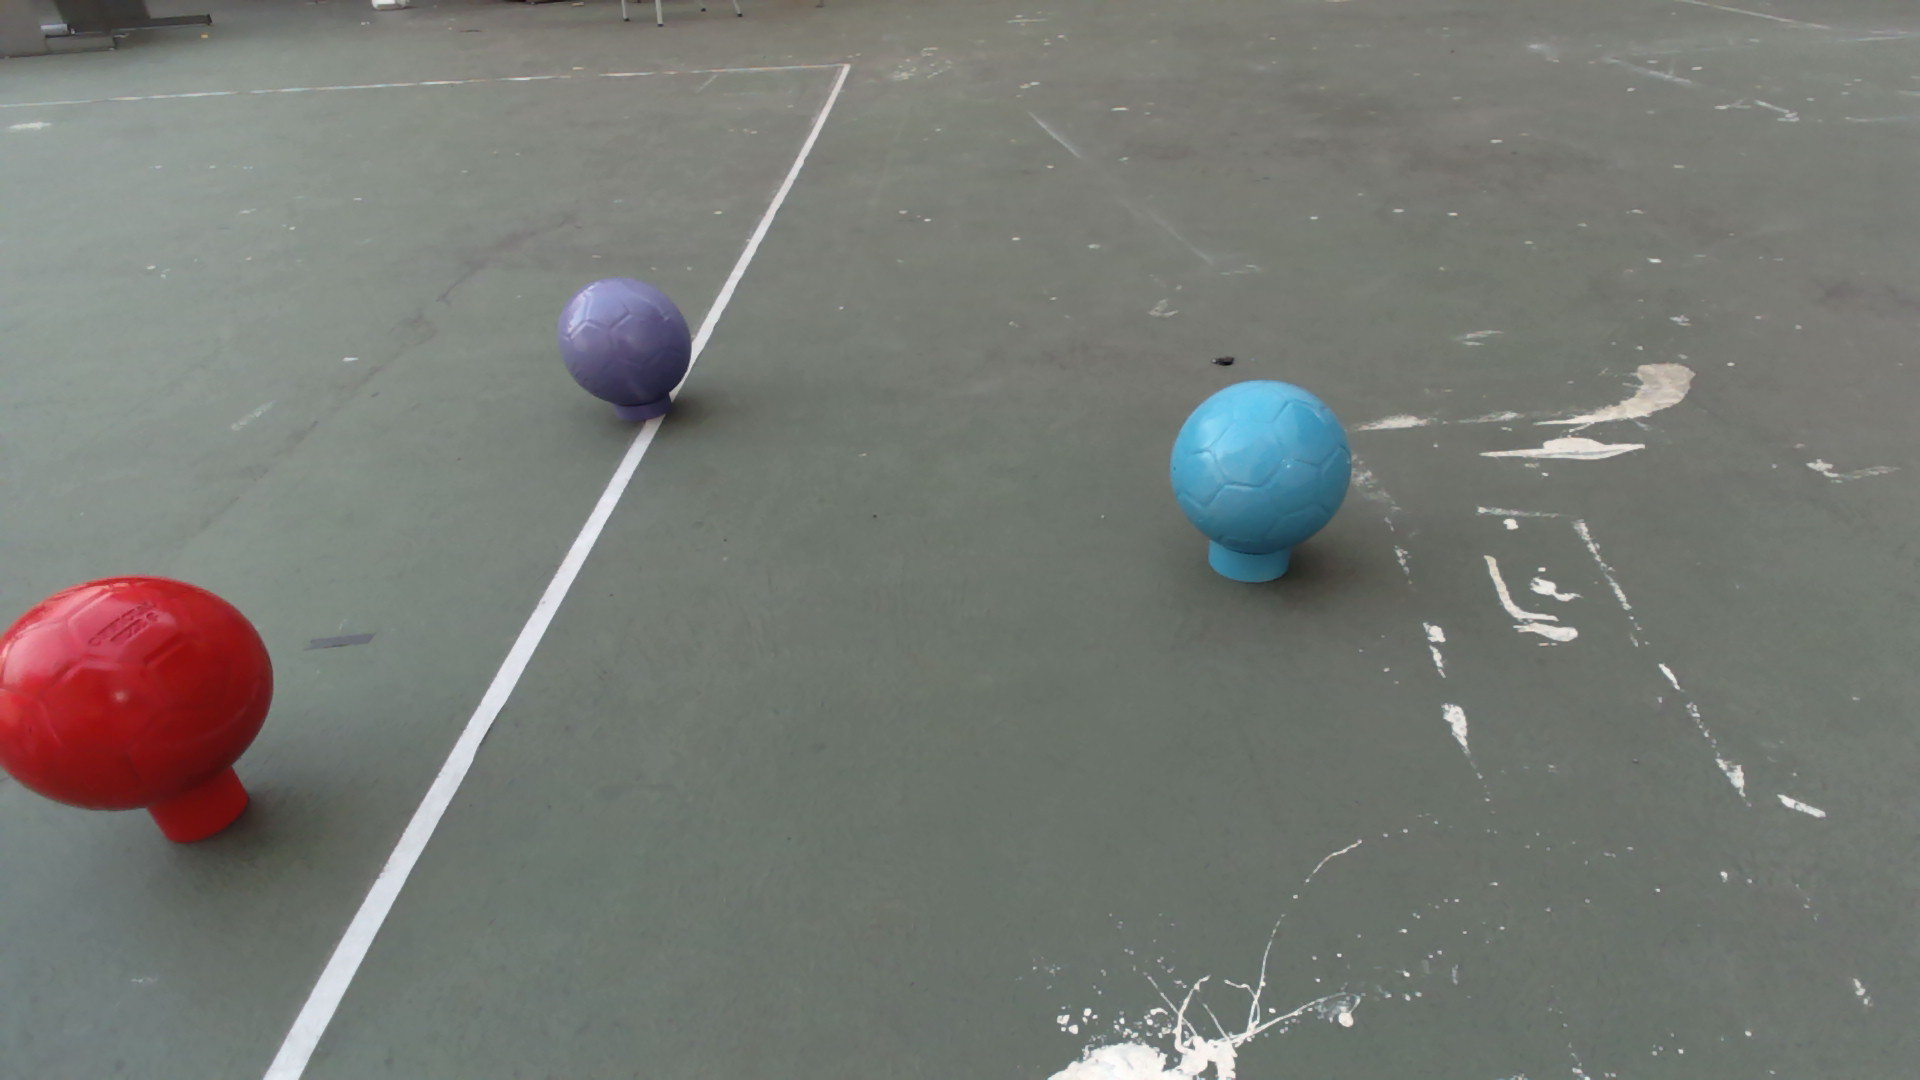Blue ball: (1168, 377, 1353, 558)
Purple ball: (556, 276, 694, 407)
Red ball: (1, 571, 276, 814)
